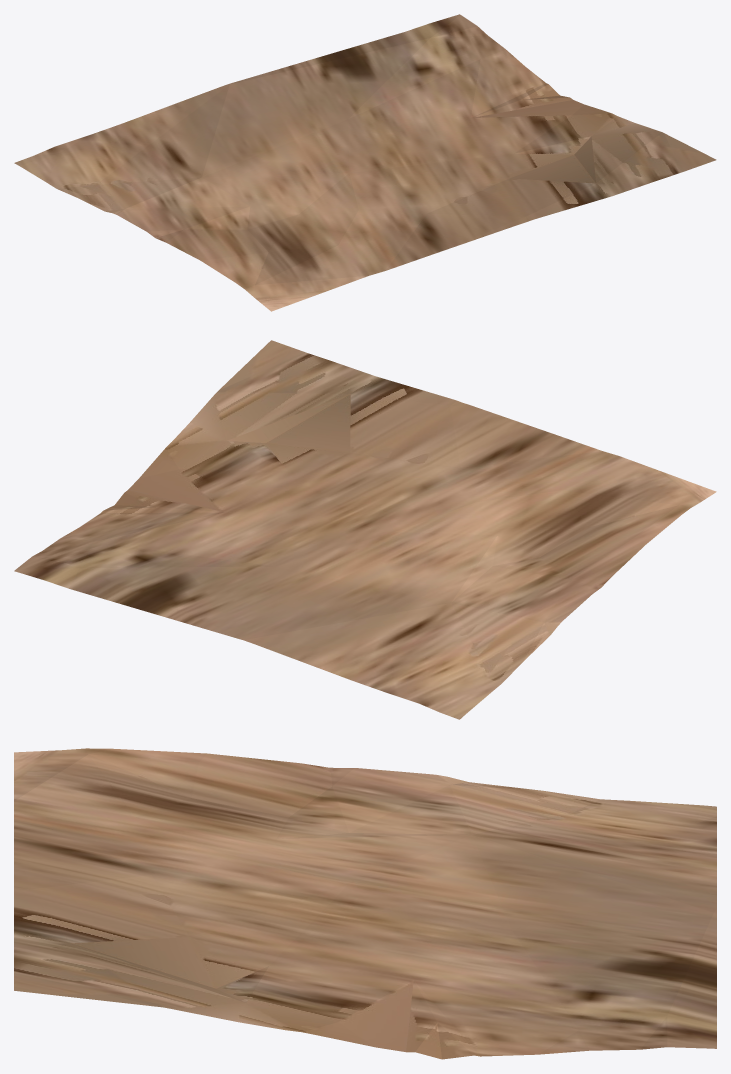
3 views of the same model, one above another, from view 1: azimuth 30°, elevation 25°; view 2: azimuth 150°, elevation 25°; view 3: azimuth 270°, elevation 25° (orthographic). The views are drawn at different scales.
Size of the model in its own units: 1.04 by 0.1851 by 1.04.
3 materials, 3 textured.
